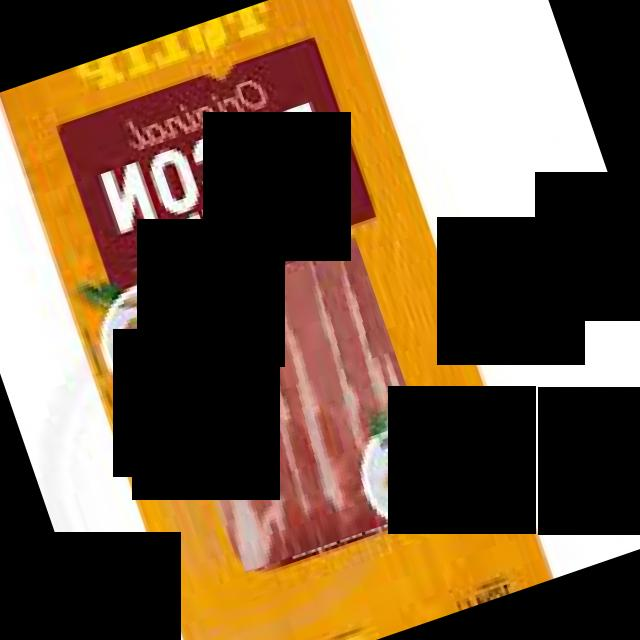bacon: (150, 227, 446, 572)
